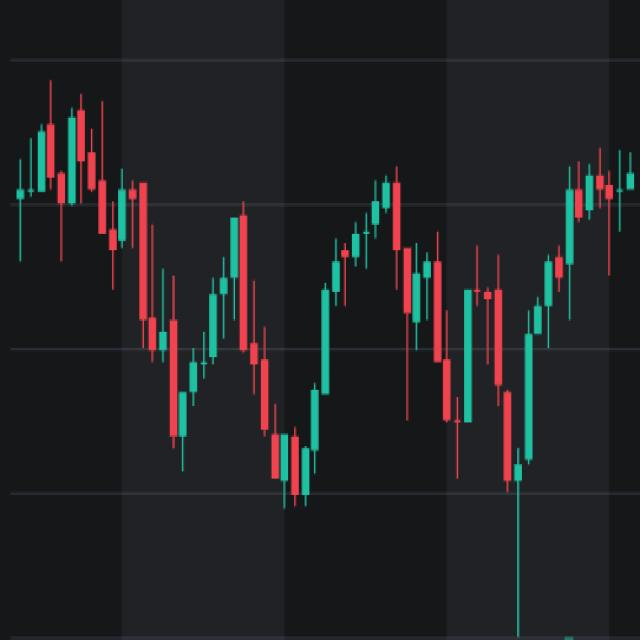Resistance-Emerging: (9, 96, 640, 491)
